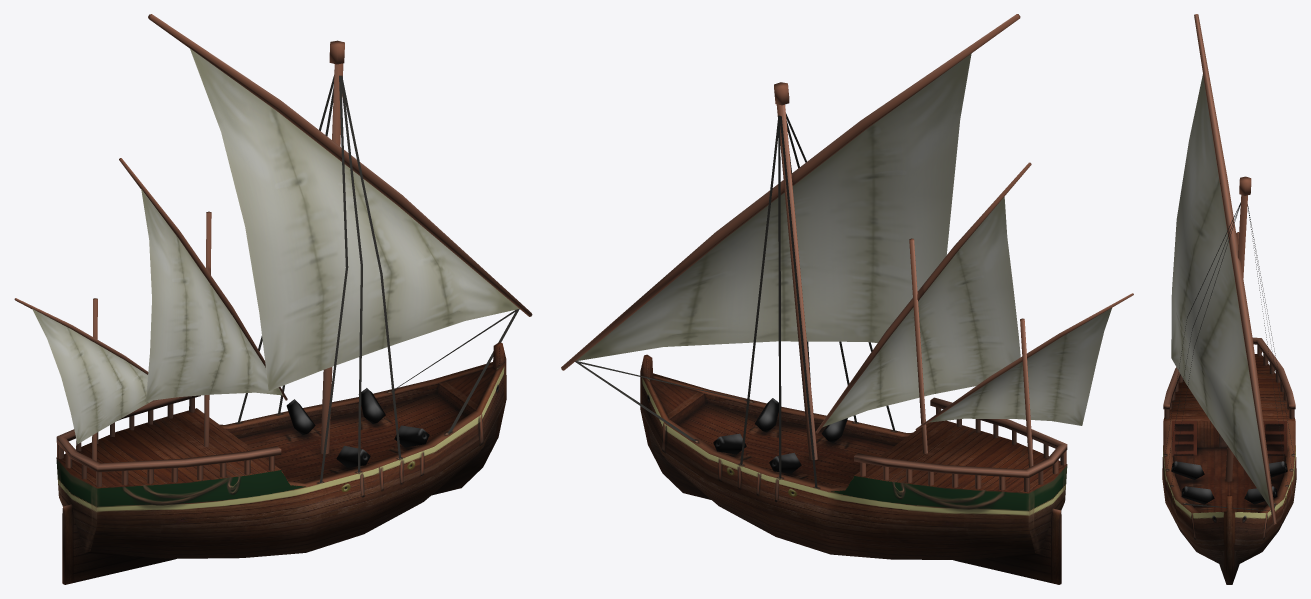
File: 02_barkas.FBX
3 renders of one model, left to right at view 1: azimuth 30°, elevation 25°; view 2: azimuth 150°, elevation 25°; view 3: azimuth 270°, elevation 25°, orthographic. The views are drawn at different scales.
Visible parts, largest first — view 1: 02-barkas; view 2: 02-barkas; view 3: 02-barkas.
Part boxes in pixels (x1,y1,x2,y2): 02-barkas: (14, 14, 532, 584); 02-barkas: (561, 14, 1133, 584); 02-barkas: (1162, 14, 1296, 584).
Bounding box in the file's own units: 524495 × 139277 × 509176.
